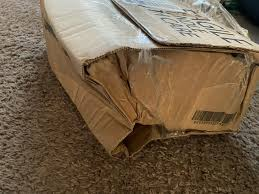damaged package: (84, 56, 172, 156), (229, 51, 258, 90)
